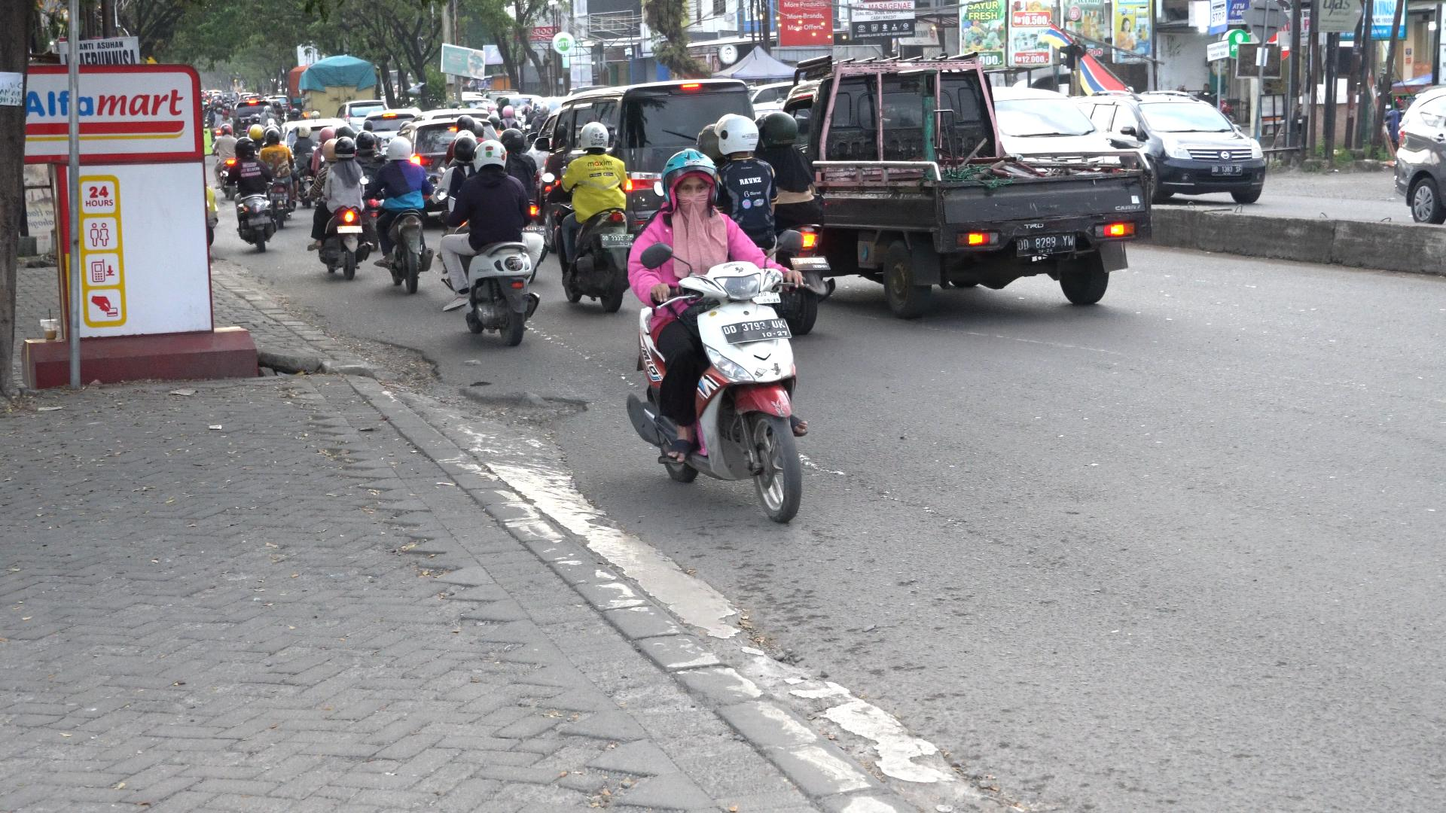number-plate: (719, 319, 793, 345)
